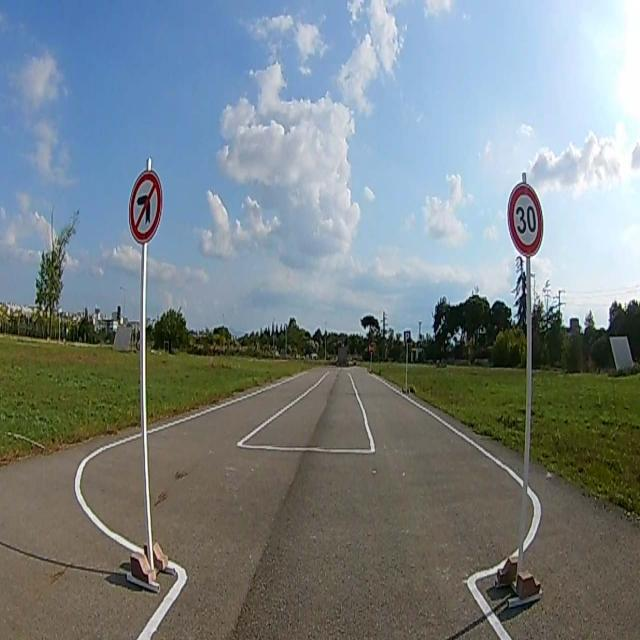30: (507, 183, 544, 256)
soladonulmez: (129, 172, 164, 244)
